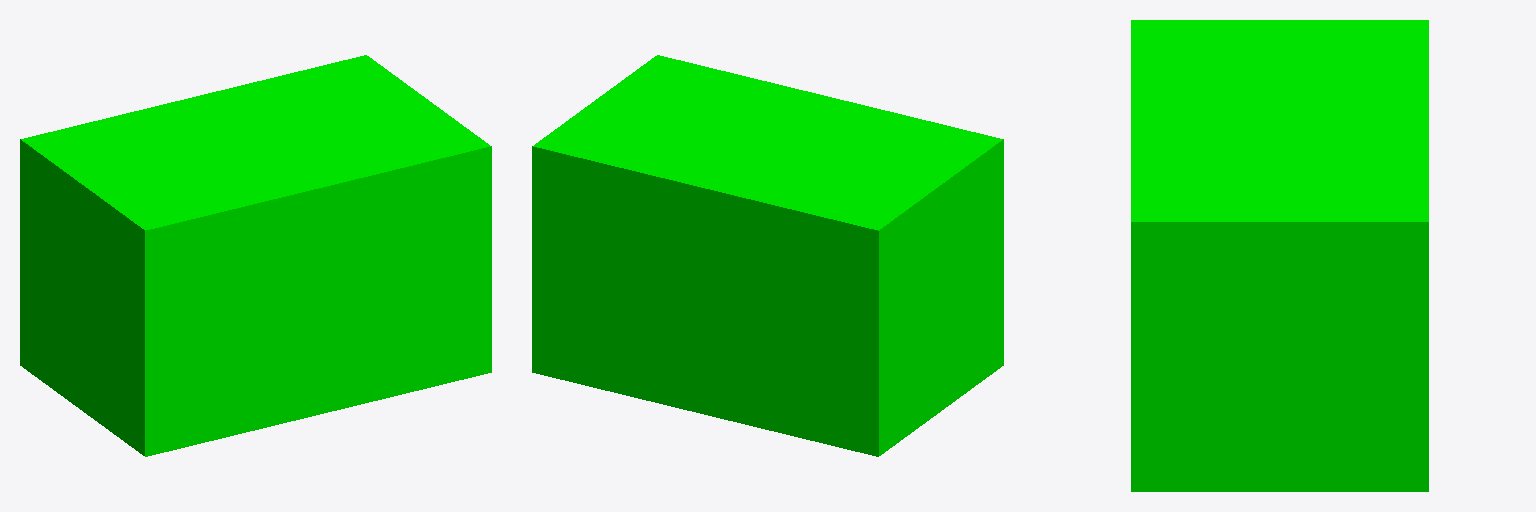
robot.urdf — box.urdf:
<?xml version="0.0" ?>
<robot name="box.urdf">
  <link name="baseLink">
    <contact>
      <lateral_friction value="0.5"/>
      <rolling_friction value="0.0001"/>
      <inertia_scaling value="3.0"/>
    </contact>
    <inertial>
      <origin rpy="0 0 0" xyz="0 0 0"/>
       <mass value=".1"/>
       <inertia ixx="1" ixy="0" ixz="0" iyy="1" iyz="0" izz="1"/>
    </inertial>
    <visual>
      <origin rpy="0 0 0" xyz="0 0 0"/>
      <geometry>
         <box size="0.08 0.05 0.05"/>
      </geometry>
      <material name="green">
        <color rgba="0 1 0 1"/>
      </material>
    </visual>
    <collision>
      <origin rpy="0 0 0" xyz="0 0 0"/>
      <geometry>
	 	    <box size="0.05 0.05 0.05"/>
      </geometry>
    </collision>
  </link>
</robot>

--- What the picture shows (computed from the rendered views, not written in the file) ---
3 views of the same robot in one strip: view 1: azimuth 30°, elevation 25°; view 2: azimuth 150°, elevation 25°; view 3: azimuth 270°, elevation 25° (orthographic).
Robot: box.urdf — 1 links, 0 joints (none); root link baseLink; default pose: all joints at 0.
Visible links, largest first — view 1: baseLink; view 2: baseLink; view 3: baseLink.
Boxes of the visible links, x1,y1,x2,y2 form: baseLink: (20,55,491,456); baseLink: (532,55,1003,456); baseLink: (1131,20,1428,491).
Bounding box of the posed robot: 0.08 × 0.05 × 0.05 m (x, y, z).
Geometry: primitives only (box / cylinder / sphere), no mesh files.